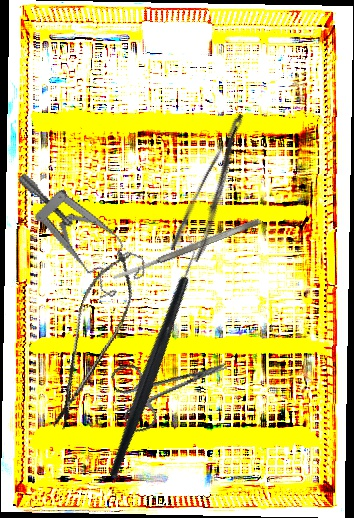Chopper: (34, 231, 268, 482)
Dressing Forceps: (166, 111, 268, 264)
Iris Scissors: (109, 335, 238, 436)
Micro Scissor: (38, 243, 147, 437)
Spatula Surgical: (109, 216, 263, 283)
Speculum: (15, 142, 153, 315)
